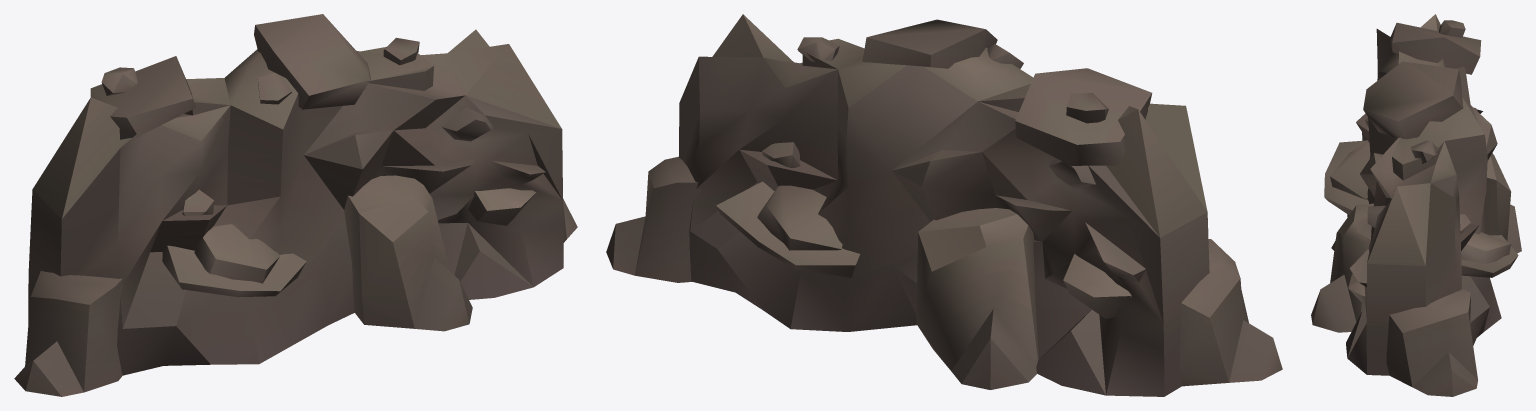
The model's file is rubble_large.glb.
3 renders of one model, left to right at view 1: azimuth 30°, elevation 25°; view 2: azimuth 150°, elevation 25°; view 3: azimuth 270°, elevation 25°, orthographic. The views are drawn at different scales.
Visible parts, largest first — view 1: rubble_large; view 2: rubble_large; view 3: rubble_large.
Part boxes in pixels (<box>): rubble_large: <box>14,14,577,396</box>; rubble_large: <box>606,14,1282,396</box>; rubble_large: <box>1311,14,1521,396</box>.
Bounding box in the file's own units: 8.13 × 3.5 × 3.18.
1 material, 1 textured.
